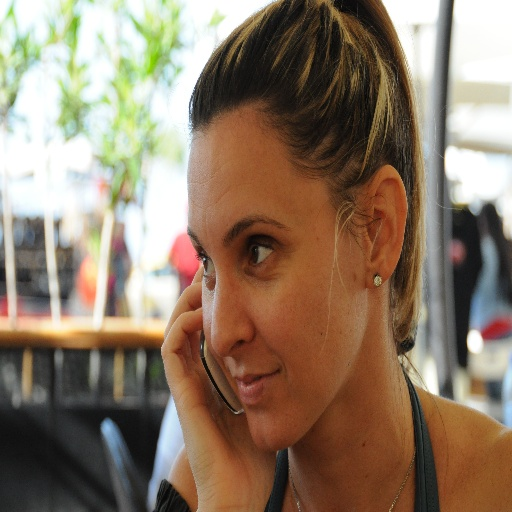hand: (155, 252, 256, 493)
